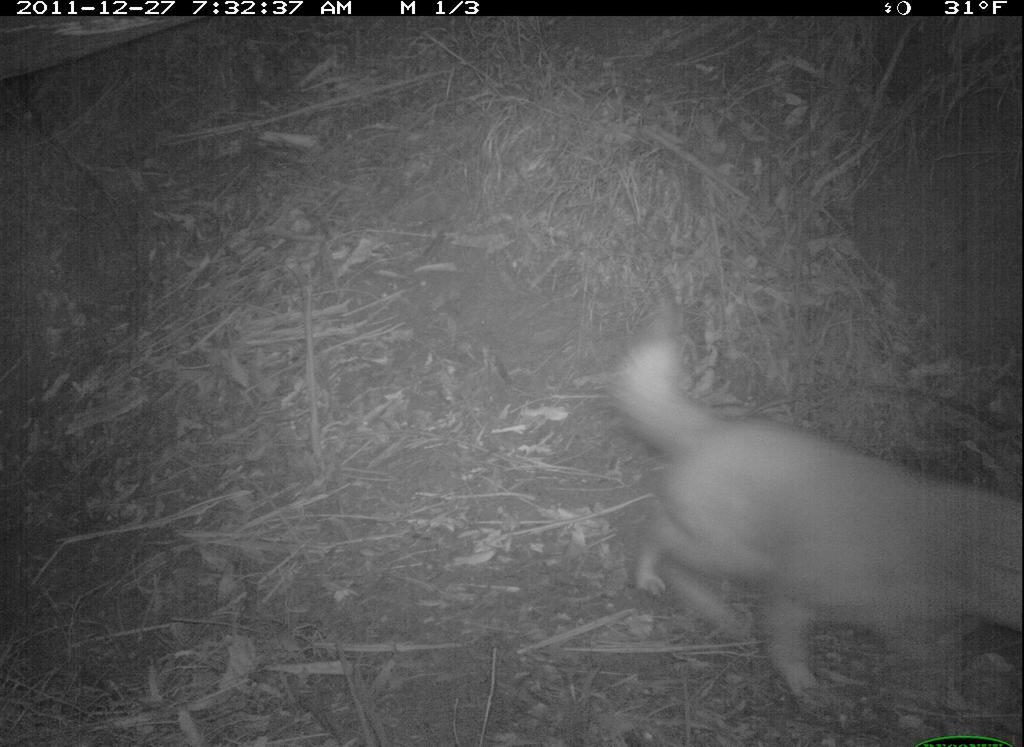dog: (611, 289, 1022, 711)
